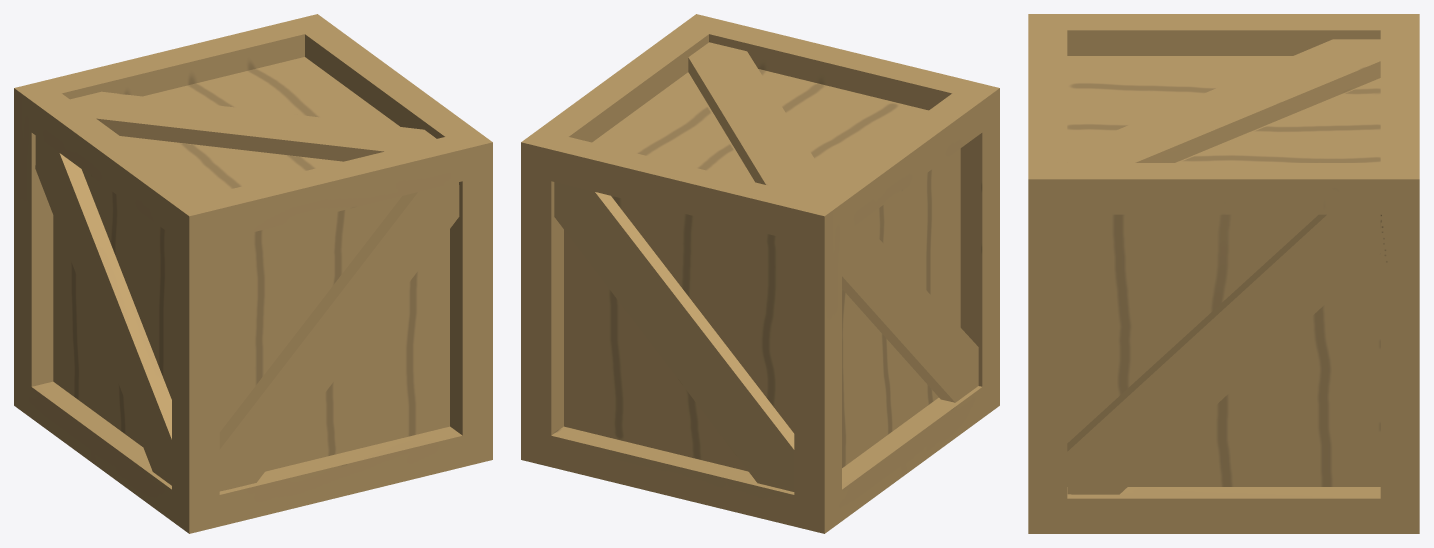
The model's file is Crate.fbx.
3 renders of one model, left to right at view 1: azimuth 30°, elevation 25°; view 2: azimuth 150°, elevation 25°; view 3: azimuth 270°, elevation 25°, orthographic. The views are drawn at different scales.
Parts seen in each view (by area): view 1: Cube; view 2: Cube; view 3: Cube.
Part boxes in pixels (box(x1,y1,x2,y2)): Cube: box(14, 14, 492, 533); Cube: box(521, 14, 999, 533); Cube: box(1028, 14, 1419, 533).
Size of the model in its own units: 200 by 200 by 200.
